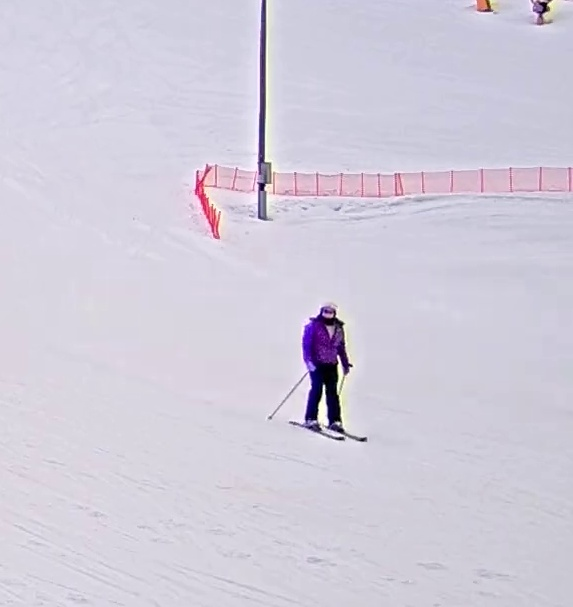skier: (265, 301, 371, 443)
